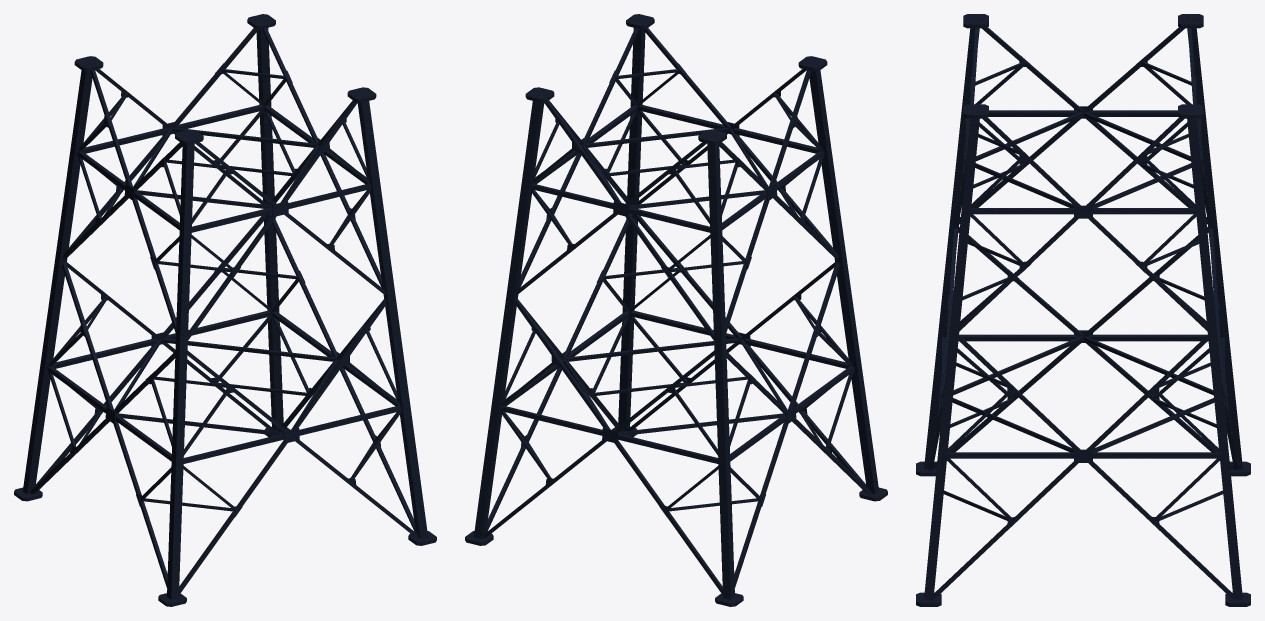
The model's file is tower_base_b.fbx.
3 renders of one model, left to right at view 1: azimuth 30°, elevation 25°; view 2: azimuth 150°, elevation 25°; view 3: azimuth 270°, elevation 25°, orthographic. The views are drawn at different scales.
Visible parts, largest first — view 1: tower_base_b; view 2: tower_base_b; view 3: tower_base_b.
Boxes of the visible parts, <box> form: tower_base_b: <box>14,14,436,606</box>; tower_base_b: <box>465,14,887,606</box>; tower_base_b: <box>916,14,1250,606</box>.
Bounding box in the file's own units: 172 × 267 × 172.
